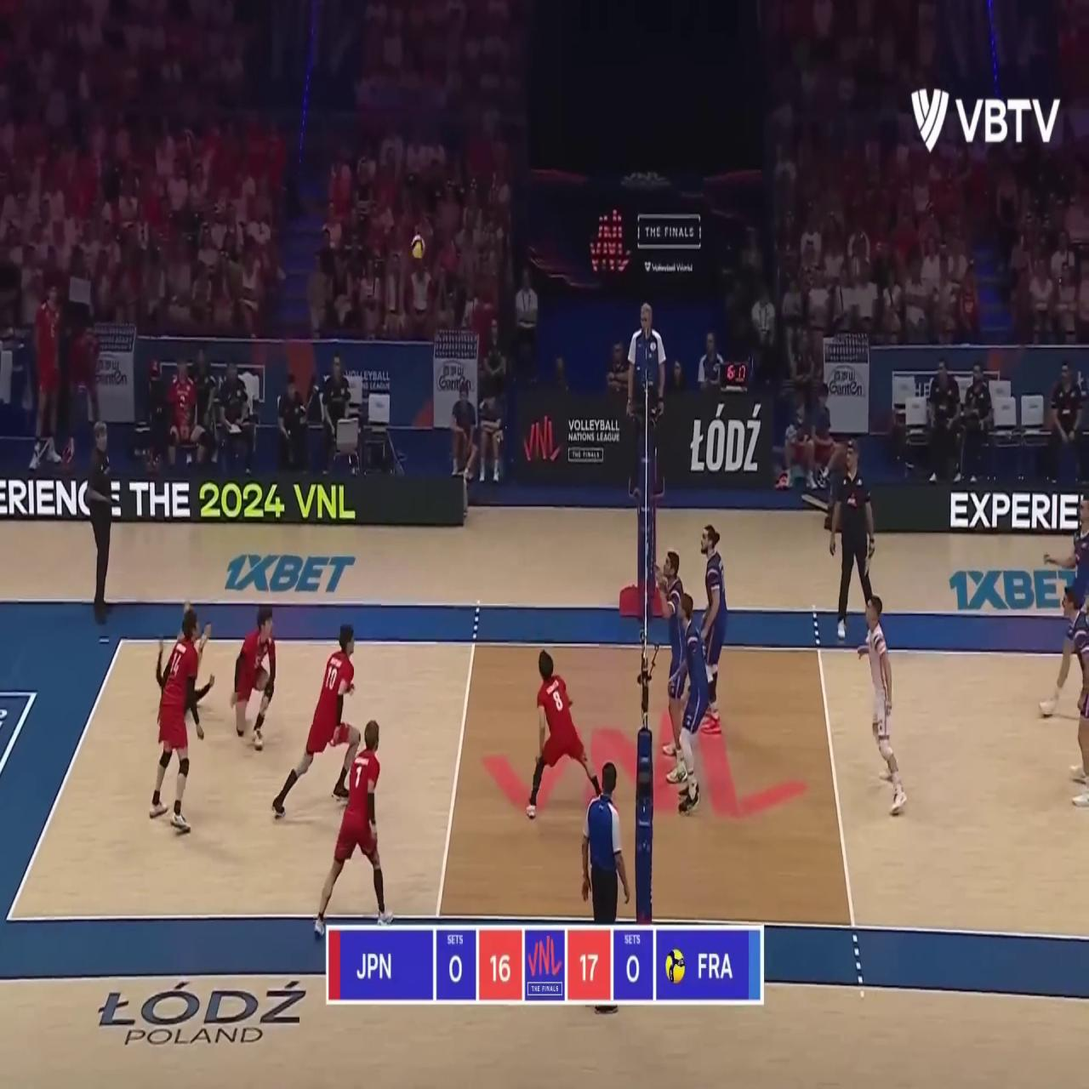ball: (411, 234, 425, 258)
